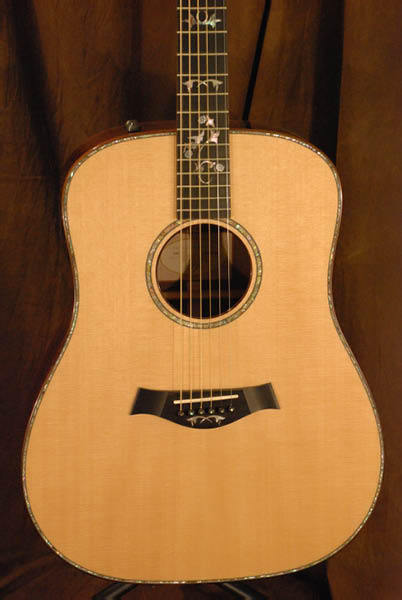guitar: (23, 1, 386, 585)
